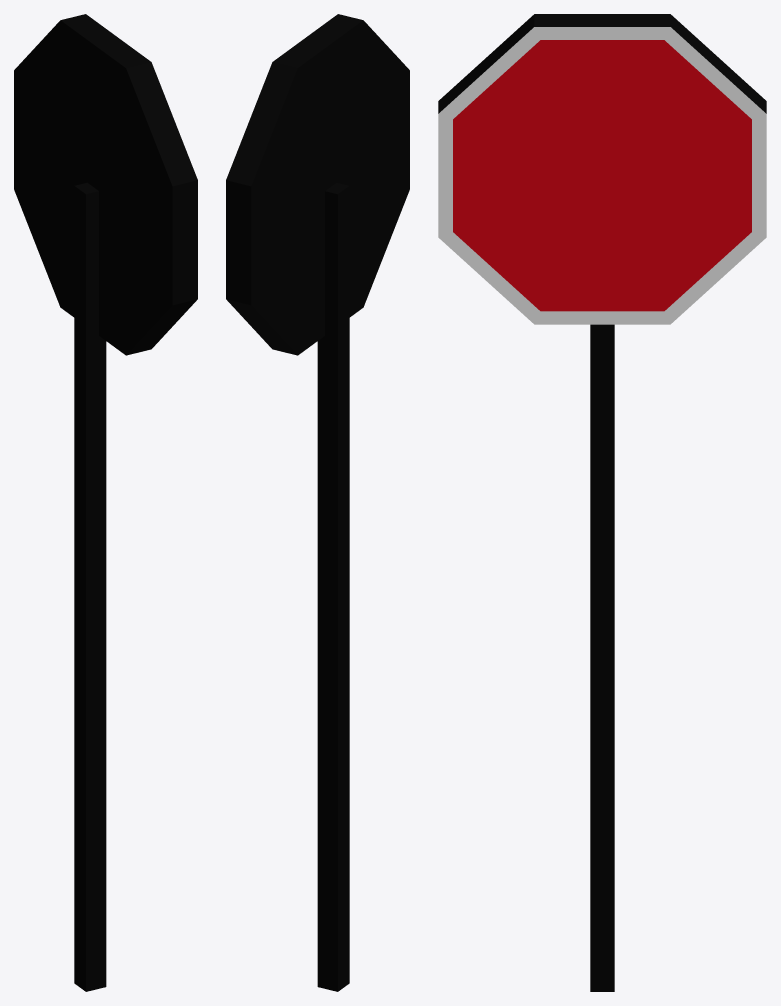
The model's file is stopSign.fbx.
The picture shows the model from 3 angles, left to right: view 1: azimuth 30°, elevation 25°; view 2: azimuth 150°, elevation 25°; view 3: azimuth 270°, elevation 25°; orthographic projection. The views are drawn at different scales.
Parts seen in each view (by area): view 1: Cylinder, Cube; view 2: Cylinder, Cube; view 3: Cylinder, Cube.
Part boxes in pixels (left/top/right/bottom): Cylinder: left=14, top=14, right=197, bottom=355; Cube: left=74, top=182, right=106, bottom=991; Cylinder: left=226, top=14, right=409, bottom=355; Cube: left=317, top=182, right=349, bottom=991; Cylinder: left=438, top=14, right=766, bottom=324; Cube: left=590, top=324, right=614, bottom=991.
Size of the model in its own units: 381 by 8901 by 2720.
